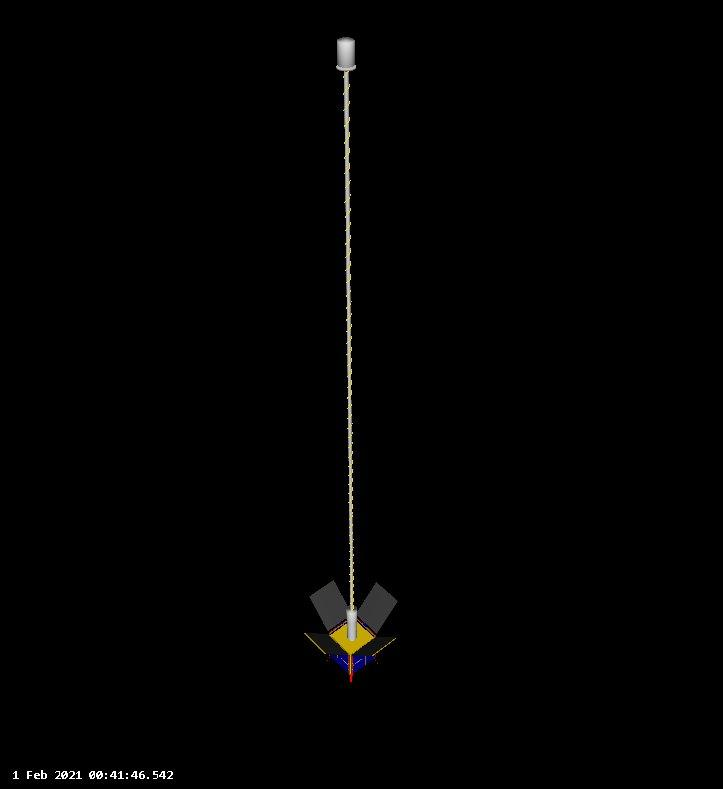antenna: (333, 34, 358, 642)
body: (324, 614, 379, 684)
solar: (356, 581, 400, 636), (310, 579, 350, 634), (303, 631, 350, 656), (324, 634, 351, 677), (351, 635, 400, 658), (351, 645, 377, 672)
